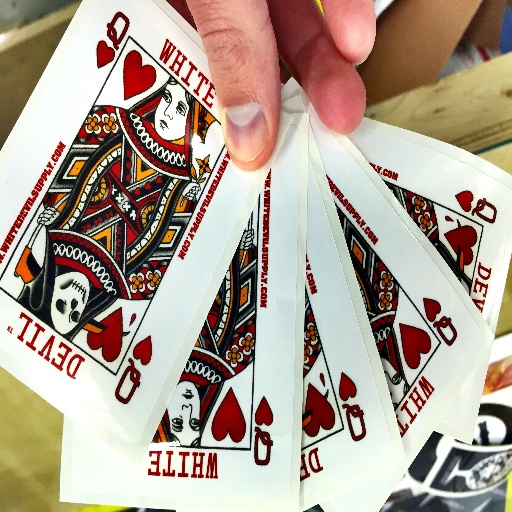hand: (178, 6, 368, 169)
